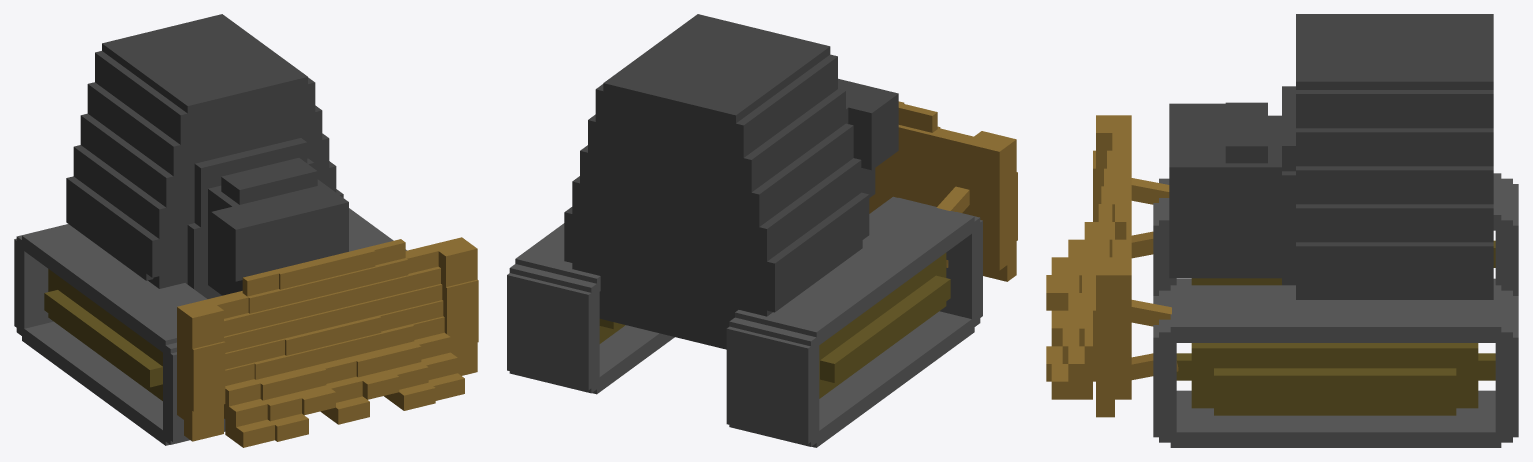
The model's file is Bulldozer.fbx.
3 renders of one model, left to right at view 1: azimuth 30°, elevation 25°; view 2: azimuth 150°, elevation 25°; view 3: azimuth 270°, elevation 25°, orthographic. The views are drawn at different scales.
Visible parts, largest first — view 1: Cube.002; view 2: Cube.002; view 3: Cube.002.
Part boxes in pixels (x1=…): Cube.002: x1=14, y1=14, x2=478, y2=447; Cube.002: x1=507, y1=14, x2=1017, y2=447; Cube.002: x1=1046, y1=14, x2=1518, y2=447.
Bounding box in the file's own units: 354 × 334 × 442.
